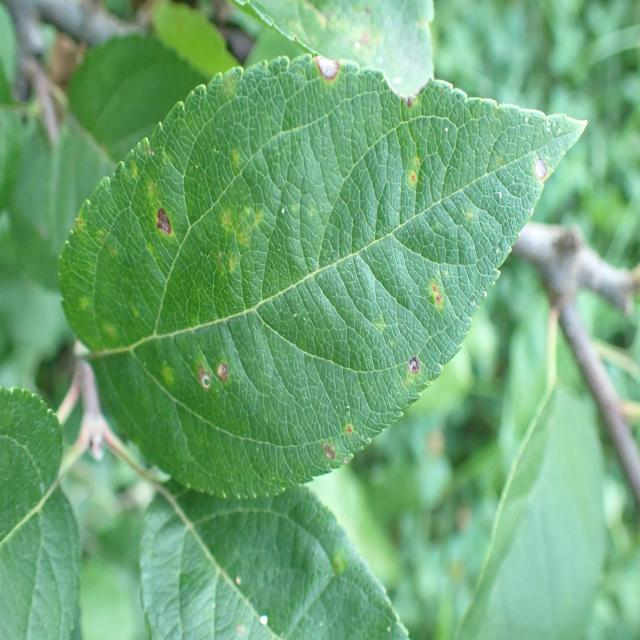rust: (56, 53, 588, 500)
